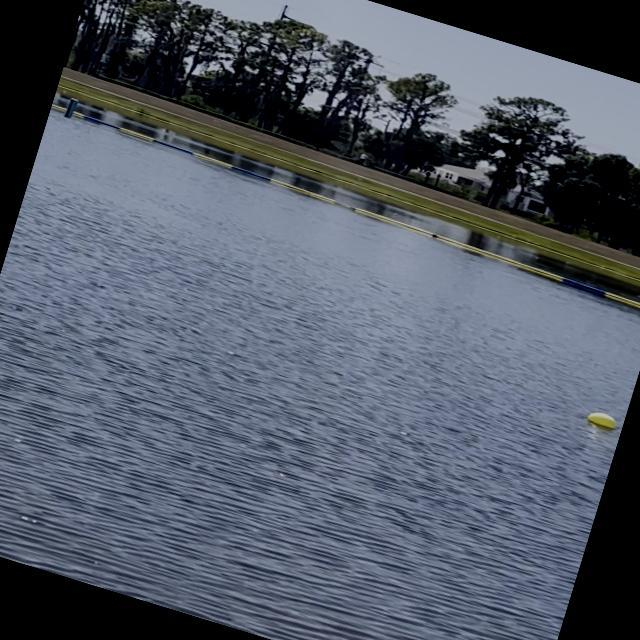buoy: (584, 404, 626, 434)
